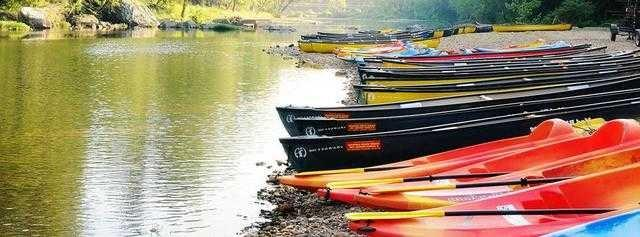kayak: (275, 108, 640, 176), (343, 165, 640, 230), (357, 56, 640, 92), (346, 203, 639, 237), (358, 42, 630, 72), (298, 34, 391, 53), (333, 41, 410, 61), (492, 22, 575, 31)
